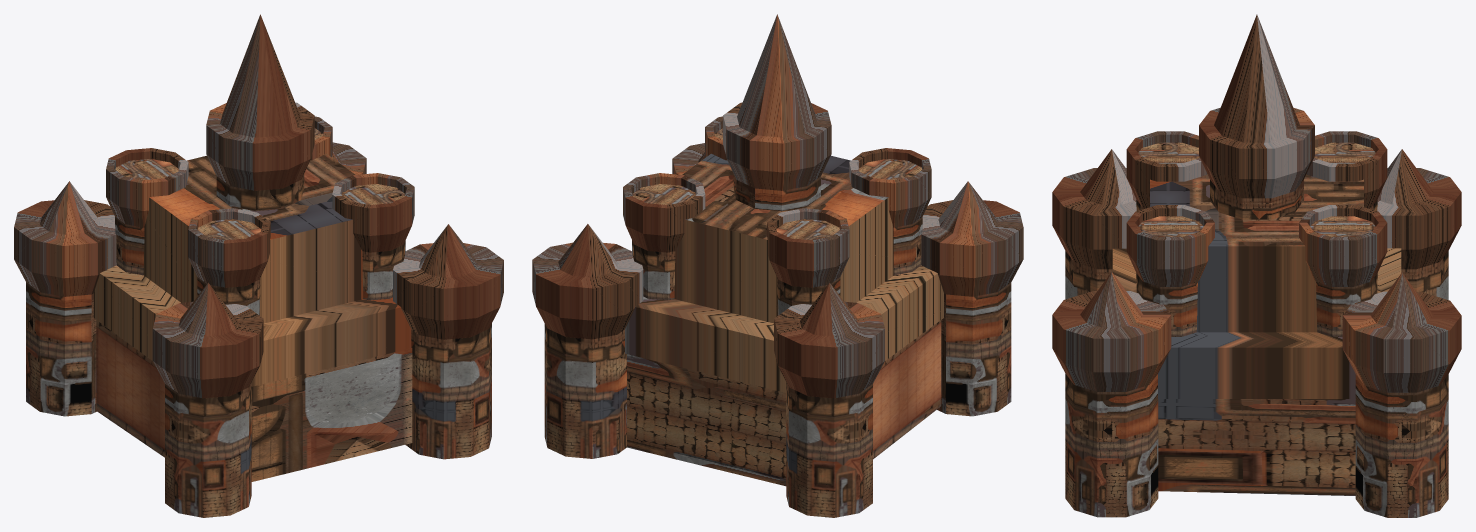
File: sb_obj_outdoor001_Castle01_set01_col.fbx
3 renders of one model, left to right at view 1: azimuth 30°, elevation 25°; view 2: azimuth 150°, elevation 25°; view 3: azimuth 270°, elevation 25°, orthographic. The views are drawn at different scales.
Visible parts, largest first — view 1: sb_obj_outdoor001_Castle01_set01_col; view 2: sb_obj_outdoor001_Castle01_set01_col; view 3: sb_obj_outdoor001_Castle01_set01_col.
Part boxes in pixels (box(x1,y1,x2,y2)): sb_obj_outdoor001_Castle01_set01_col: box(14, 14, 503, 517); sb_obj_outdoor001_Castle01_set01_col: box(532, 14, 1023, 517); sb_obj_outdoor001_Castle01_set01_col: box(1052, 14, 1461, 517).
Bounding box in the file's own units: 13.95 × 16.11 × 14.09.
